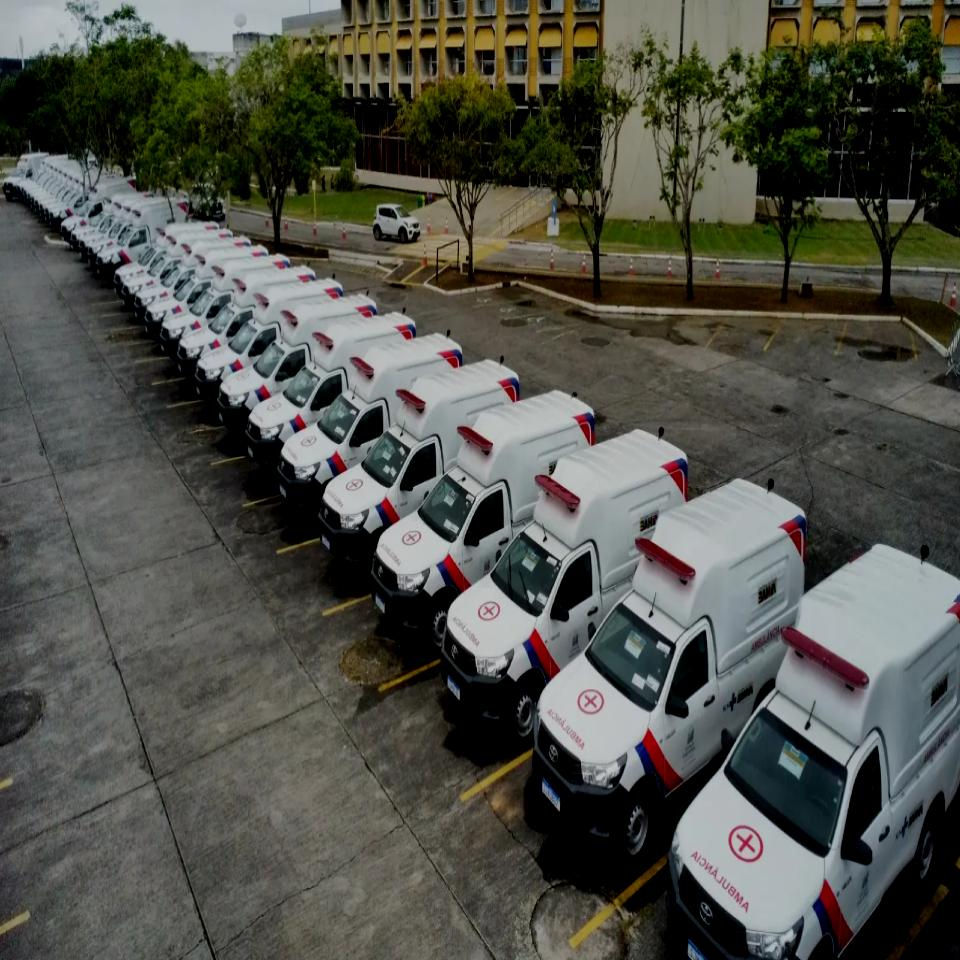ambulancia: (667, 544, 960, 960), (530, 477, 805, 857), (443, 427, 686, 747), (371, 390, 596, 656), (319, 359, 520, 582), (276, 332, 464, 520)
